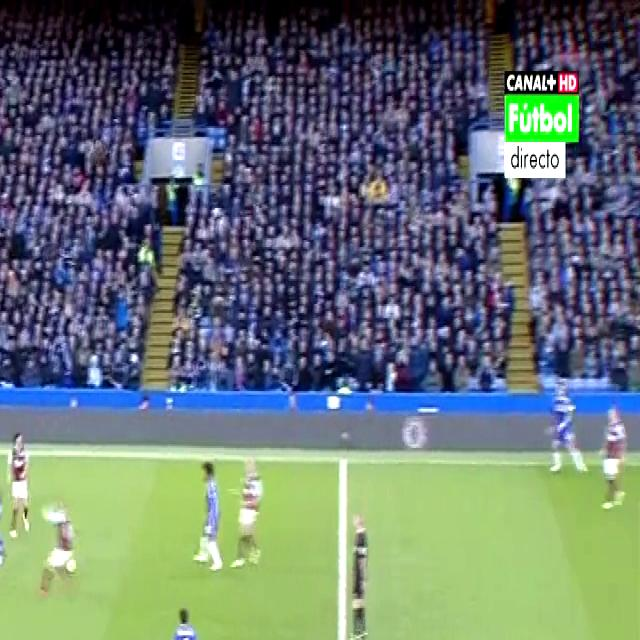referee: (338, 501, 376, 640)
soccer-player: (36, 491, 85, 606), (230, 440, 270, 573), (596, 393, 634, 523), (190, 452, 228, 581), (539, 374, 582, 488), (7, 414, 41, 544), (157, 599, 208, 640), (0, 483, 6, 598)
